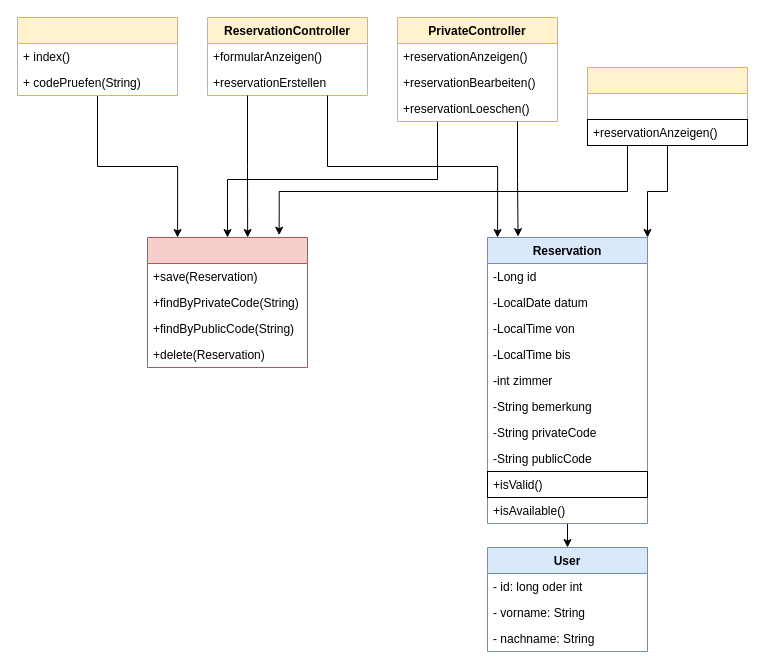
This 765x672 diagram has some shape labels left out. Each missing label, with the box of its shape:
PublicController: (586, 66, 748, 146)
ReservationRepository: (146, 236, 308, 368)
StartController: (16, 16, 178, 96)
